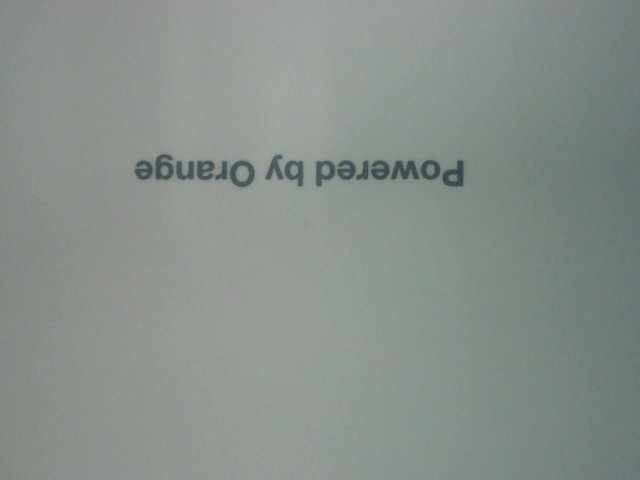AS_PowerByOrange: (107, 141, 470, 197)
